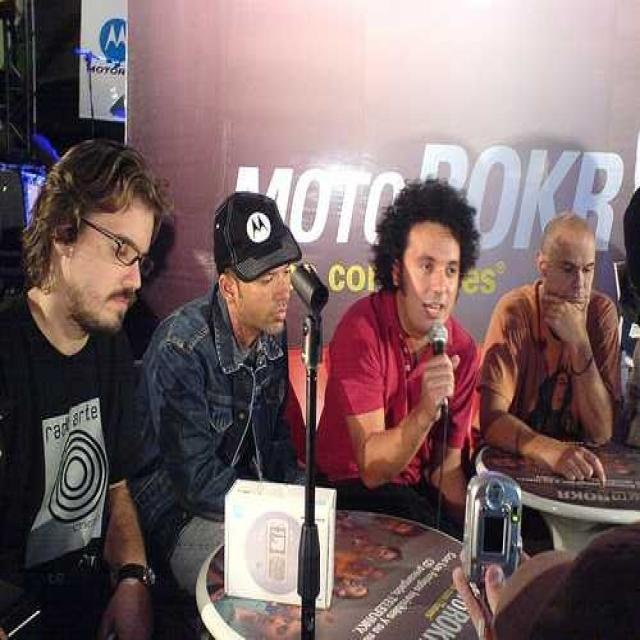microphone: (429, 320, 450, 416)
